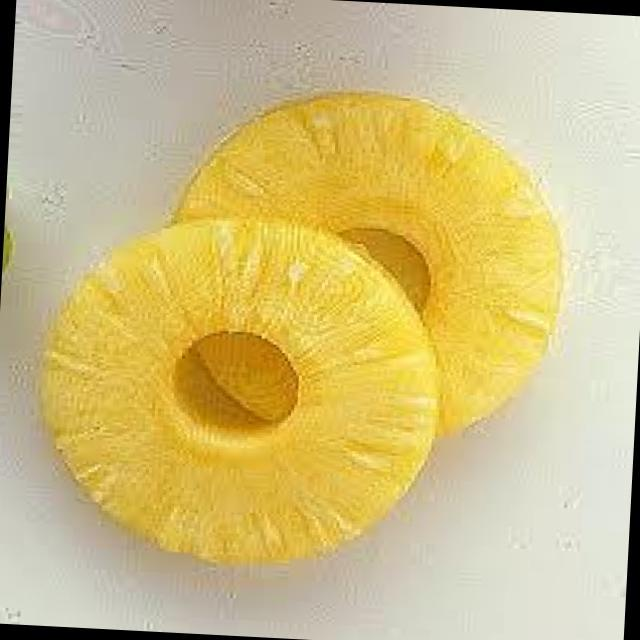Pineapple: (13, 22, 615, 612)
